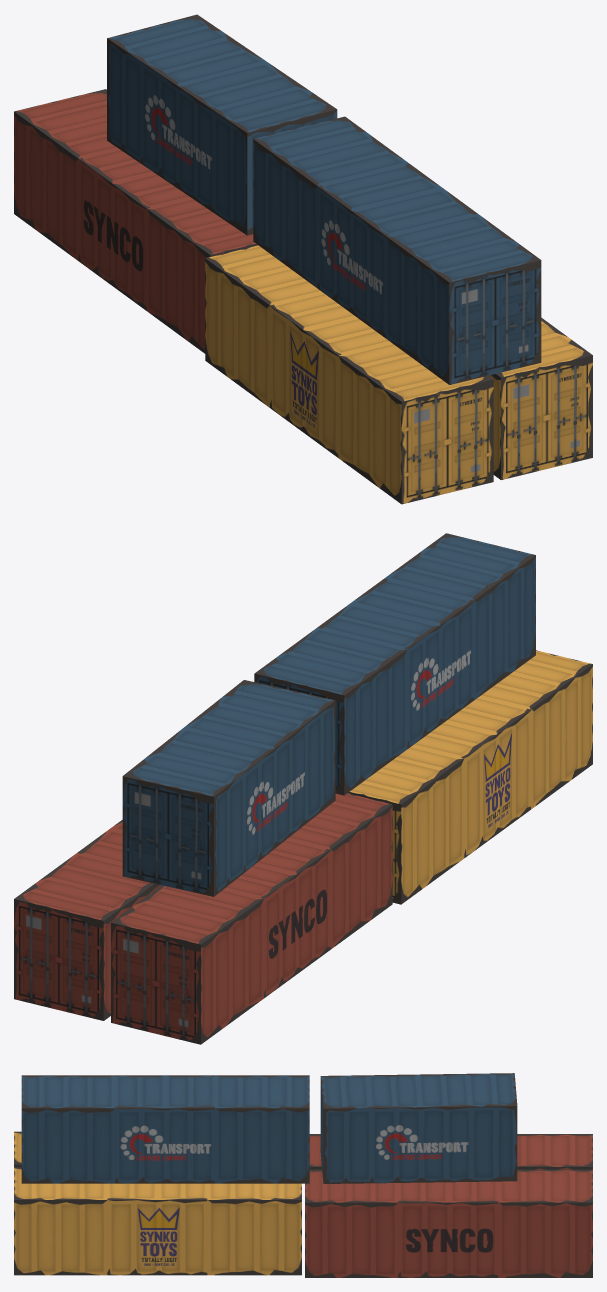
Rendered from SM_Prop_Container_Large_Stack_06.fbx.
3 views of the same model, one above another, from view 1: azimuth 30°, elevation 25°; view 2: azimuth 150°, elevation 25°; view 3: azimuth 270°, elevation 25° (orthographic). The views are drawn at different scales.
Visible parts, largest first — view 1: SM_Prop_Container_Large_Stack_06; view 2: SM_Prop_Container_Large_Stack_06; view 3: SM_Prop_Container_Large_Stack_06.
Boxes of the visible parts, bbox=[...] form: SM_Prop_Container_Large_Stack_06: bbox=[14, 14, 592, 504]; SM_Prop_Container_Large_Stack_06: bbox=[14, 533, 592, 1044]; SM_Prop_Container_Large_Stack_06: bbox=[14, 1073, 592, 1277].
Bounding box in the file's own units: 524 × 518 × 1806.
